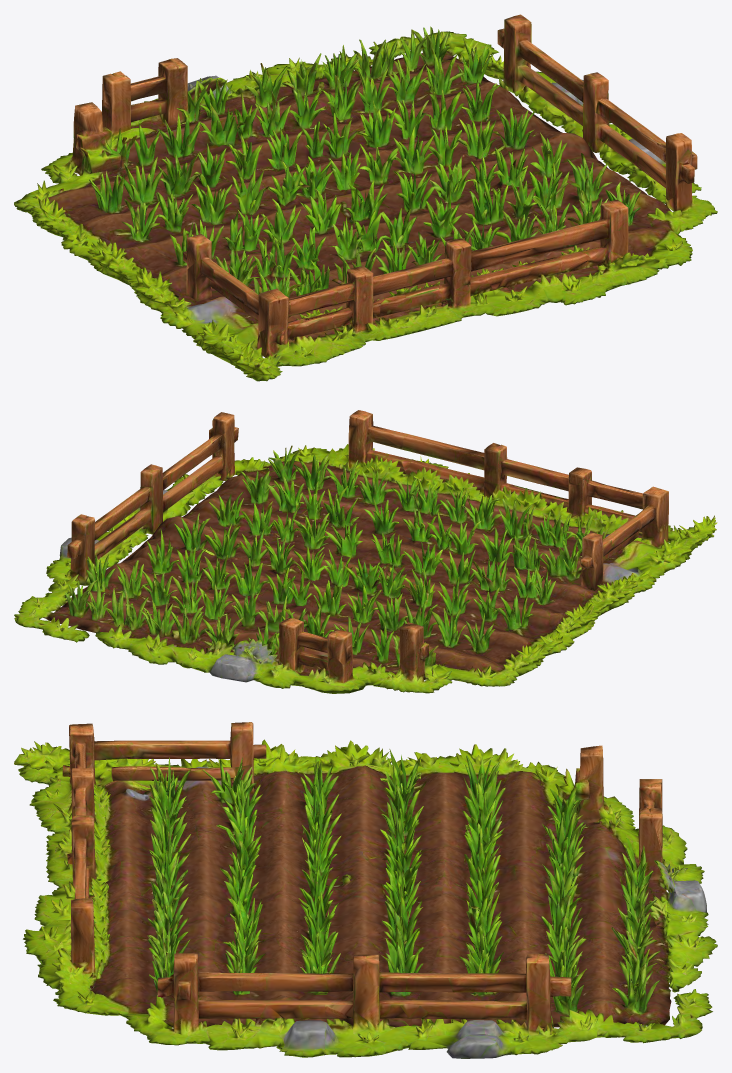
Rendered from granja_e3.glb.
The picture shows the model from 3 angles, top to bottom: view 1: azimuth 30°, elevation 25°; view 2: azimuth 150°, elevation 25°; view 3: azimuth 270°, elevation 25°; orthographic projection. The views are drawn at different scales.
Visible parts, largest first — view 1: Mesh_0; view 2: Mesh_0; view 3: Mesh_0.
Boxes of the visible parts, <box> form: Mesh_0: <box>14,14,717,381</box>; Mesh_0: <box>14,410,717,693</box>; Mesh_0: <box>14,722,717,1058</box>.
Size of the model in its own units: 0.4934 by 0.0598 by 0.4944.
1 material, 1 textured.
